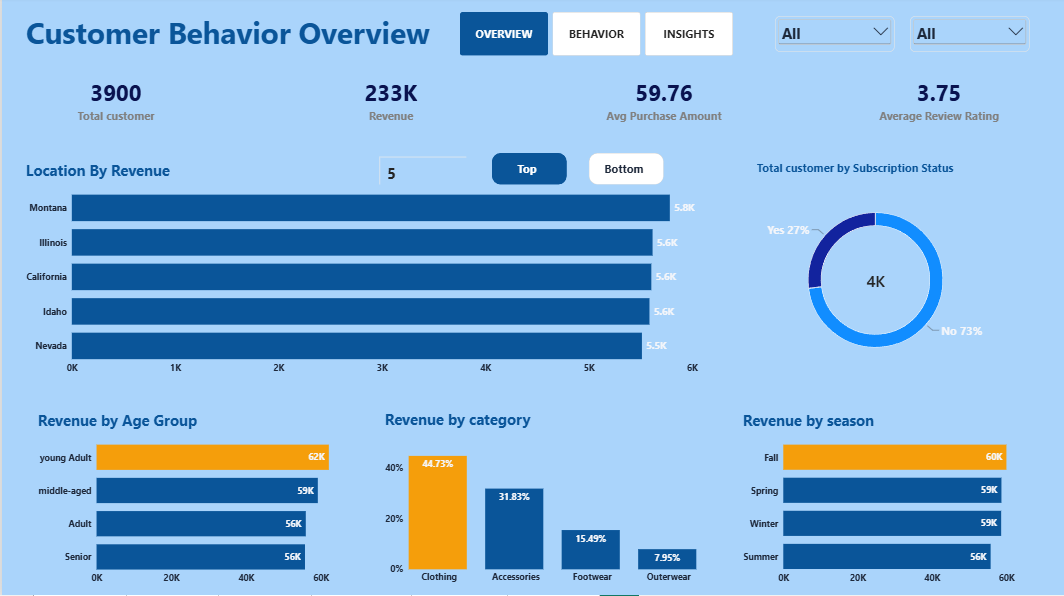

This screenshot's page, from the dashboard's own definition file:
{"tool":"powerbi","page":{"name":"Page 1","canvas":[1500,820],"ordinal":0},"visuals":[{"type":"cardVisual","fields":{"Data":["public customer.number of customer","public customer.Average purchase amount","public customer.average review rating"]},"box":[211.3,108.1,1288.7,179],"z":0},{"type":"shape","box":[0,0,1500,103.2],"z":1000},{"type":"textbox","box":[0,11.3,1500,85.5],"z":2000},{"type":"shape","box":[211.3,287.1,427.4,241.9],"z":3000},{"type":"donutChart","title":"%  of Customer by Subscription_status","fields":{"Category":["public customer.subscription_status"],"Y":["CountNonNull(public customer.customer_id)"]},"box":[224.2,303.2,400,209.7],"z":4000},{"type":"shape","box":[641.9,288.7,427.4,241.9],"z":5000},{"type":"shape","box":[1072.6,288.7,427.4,241.9],"z":6000},{"type":"clusteredColumnChart","title":"Revenue by category","fields":{"Category":["public customer.category"],"Y":["Sum(public customer.purchase_amount)"]},"box":[659.7,300,393.5,216.1],"z":7000},{"type":"clusteredColumnChart","title":"Sales by category","fields":{"Category":["public customer.category"],"Y":["CountNonNull(public customer.purchase_amount)"]},"box":[1090.3,303.2,393.5,216.1],"z":8000},{"type":"shape","box":[0,108.1,211.3,711.3],"z":9000},{"type":"advancedSlicerVisual","fields":{"Values":["public customer.subscription_status"]},"box":[21,133.9,171,77.4],"z":10000},{"type":"advancedSlicerVisual","fields":{"Values":["public customer.gender"]},"box":[25.8,219.4,159.7,133.9],"z":11000},{"type":"listSlicer","fields":{"Values":["public customer.shipping_type"]},"box":[17.7,600,177.4,203.2],"z":12000},{"type":"advancedSlicerVisual","fields":{"Values":["public customer.category"]},"box":[25.8,353.2,159.7,222.6],"z":13000},{"type":"shape","box":[856.5,530.6,643.5,272.6],"z":14000},{"type":"clusteredBarChart","title":"Sales by Age Group","fields":{"Y":["CountNonNull(public customer.customer_id)"],"Category":["public customer.age_group"]},"box":[874.2,548.4,609.7,233.9],"z":15000},{"type":"shape","box":[211.3,529,619.4,272.6],"z":16000},{"type":"clusteredBarChart","title":"Revenue by Age Group","fields":{"Y":["Sum(public customer.previous_purchases)"],"Category":["public customer.age_group"]},"box":[224.2,548.4,585.5,233.9],"z":17000}]}

Visuals, with their boxes in screenshot pixels (x1, y1, x2, y2), scaled from the page's 1500x820 canvas onto the 1064x596 screenshot:
cardVisual - public customer.number of customer x public customer.Average purchase amount: 150/79/1063/209
shape: 0/0/1063/75
textbox: 0/8/1063/70
shape: 150/209/453/384
"%  of Customer by Subscription_status" donutChart: 159/220/443/373
shape: 455/210/758/386
shape: 761/210/1063/386
"Revenue by category" clusteredColumnChart: 468/218/747/375
"Sales by category" clusteredColumnChart: 773/220/1053/377
shape: 0/79/150/595
advancedSlicerVisual - public customer.subscription_status: 15/97/136/154
advancedSlicerVisual - public customer.gender: 18/159/132/257
listSlicer - public customer.shipping_type: 13/436/138/584
advancedSlicerVisual - public customer.category: 18/257/132/419
shape: 608/386/1063/584
"Sales by Age Group" clusteredBarChart: 620/399/1053/569
shape: 150/384/589/583
"Revenue by Age Group" clusteredBarChart: 159/399/574/569
